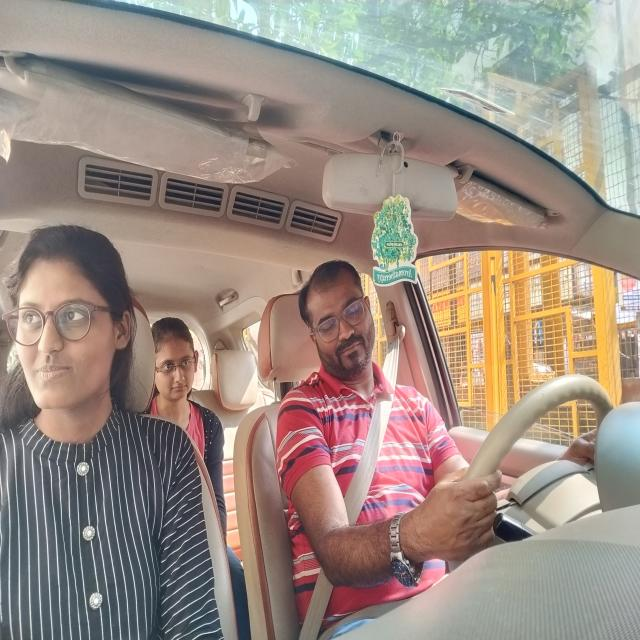drowsy: (296, 260, 384, 378)
person: (15, 235, 116, 402), (152, 312, 205, 413)
